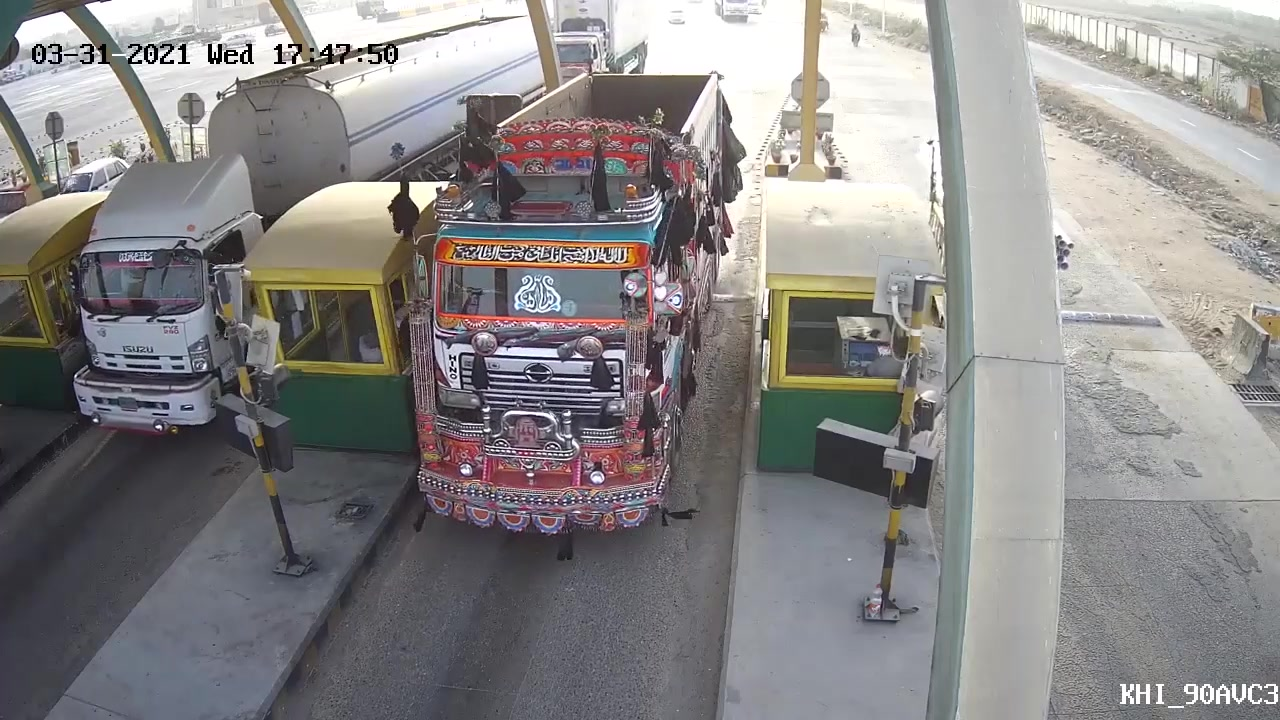F5: (377, 56, 745, 556)
